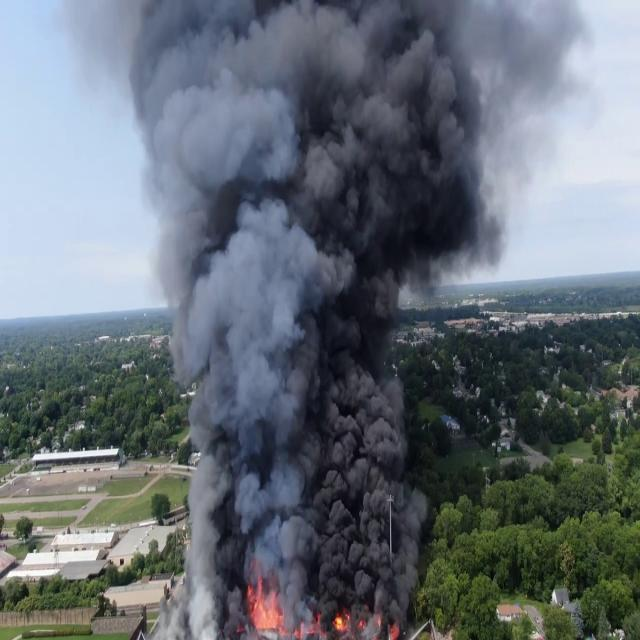Smoke: (112, 0, 506, 616)
